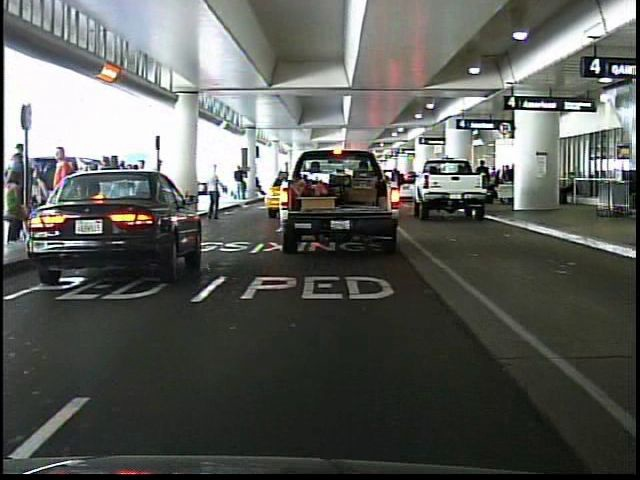person: (51, 143, 76, 249), (204, 161, 226, 223), (235, 162, 254, 199)
